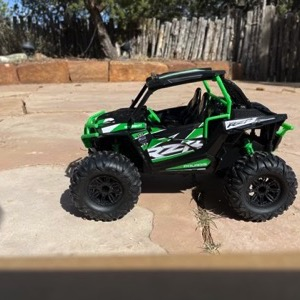polaris: (68, 66, 299, 223)
